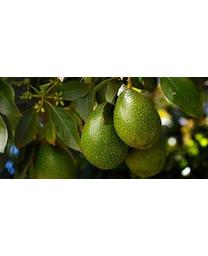avocado: (80, 102, 132, 170), (113, 88, 163, 151)
